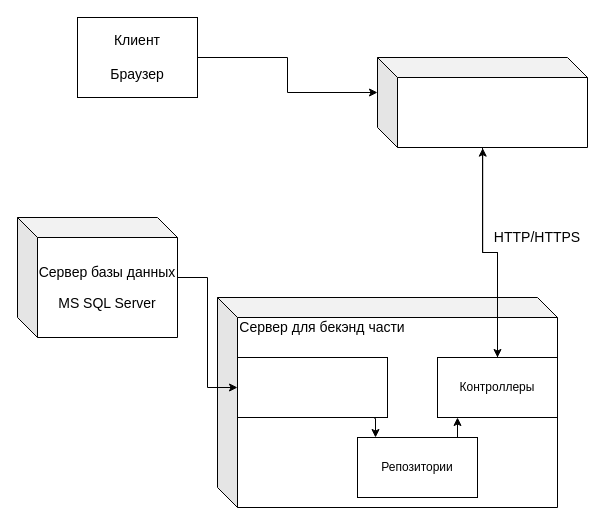
Image size: 605x525. Some labels were removed from this diagram. The shapes that lost their labels are listed below. From the top down, each one's box as (x1, y1, x2, y2) in pixels, then its label:
(376, 56, 588, 148): Сервер для фронтэнд части
(236, 356, 388, 418): Entity Framework Core
